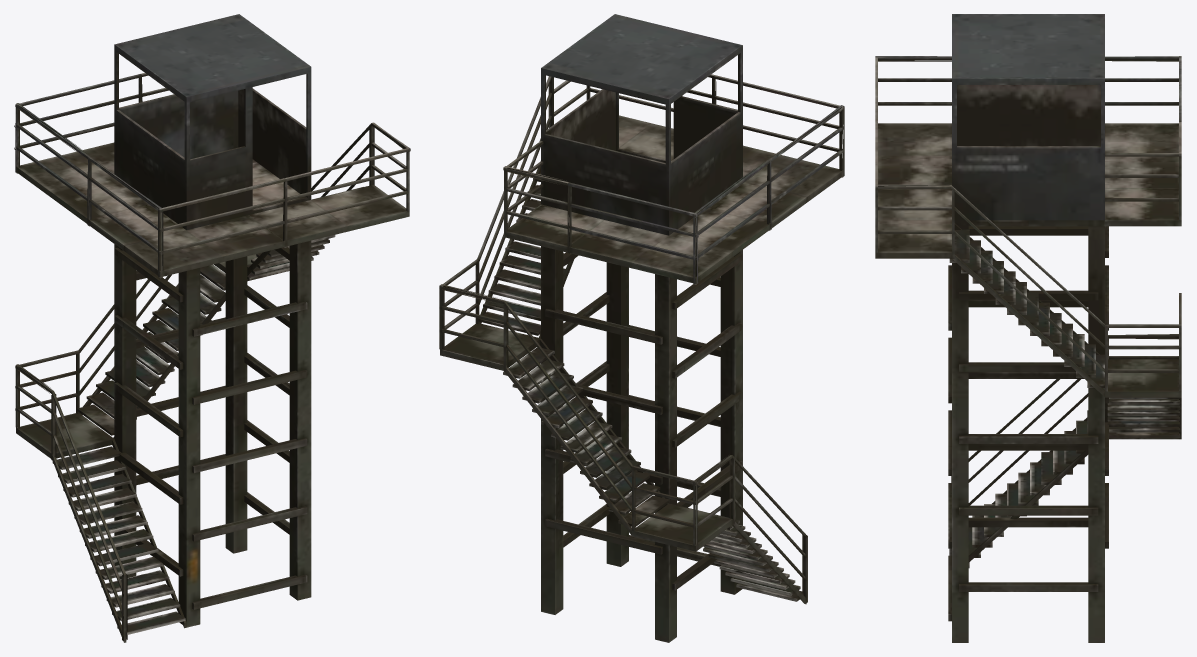
File: watchtower.zfix-v14.lod0.glb
The picture shows the model from 3 angles, left to right: view 1: azimuth 30°, elevation 25°; view 2: azimuth 150°, elevation 25°; view 3: azimuth 270°, elevation 25°; orthographic projection. The views are drawn at different scales.
Visible parts, largest first — view 1: scene__0; view 2: scene__0; view 3: scene__0.
Boxes of the visible parts, box(x1,y1,x2,y2) form: scene__0: box(14, 14, 410, 642); scene__0: box(439, 14, 844, 642); scene__0: box(875, 14, 1181, 642).
Bounding box in the file's own units: 4.48 × 9 × 4.48.
Materials: 1 (1 with a texture image).
